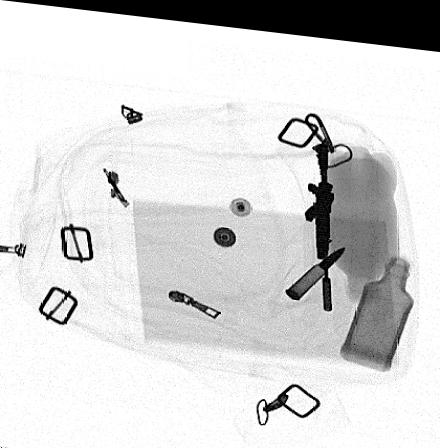Bullet: (286, 239, 346, 292)
Gun: (303, 135, 333, 304)
